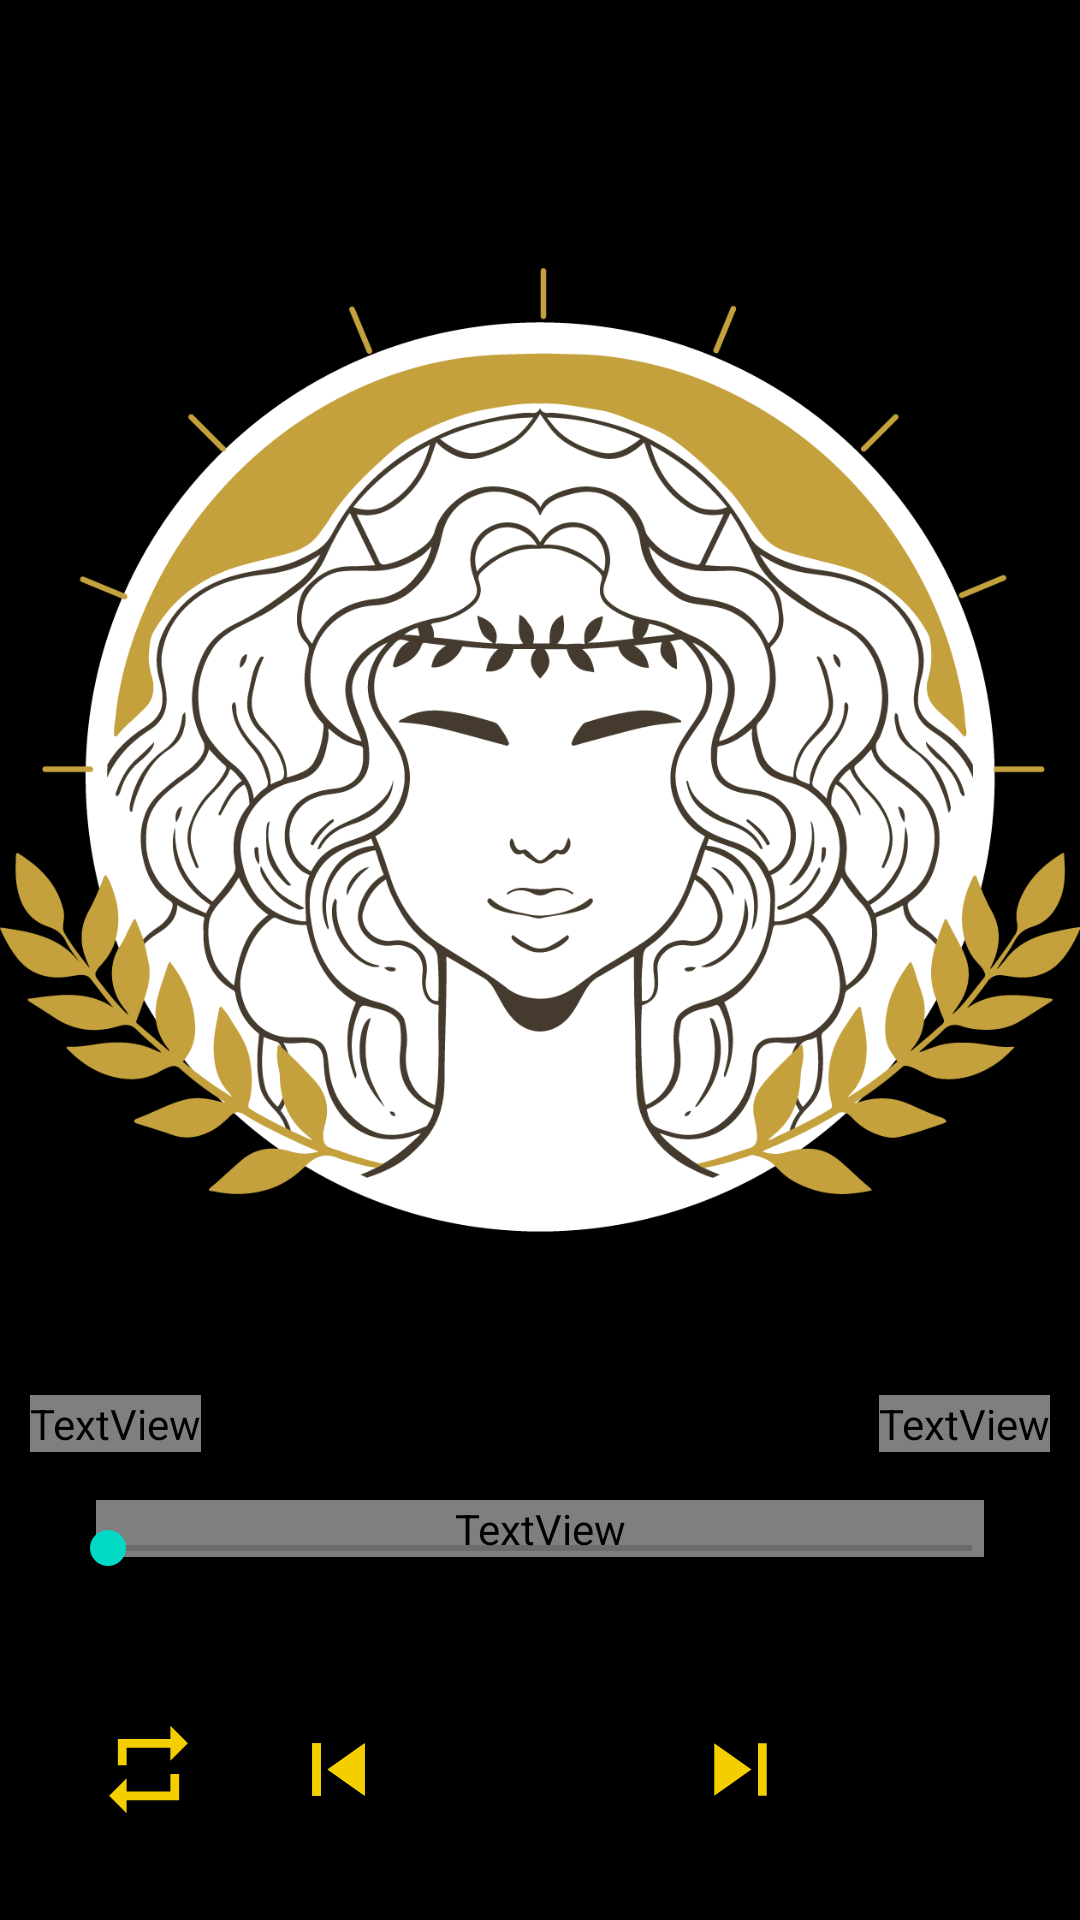

Locate icon controls on the screen. Image size 1080px x 1920px, boxes as (x1=x1, y1=y1, x2=x2, y2=y2).
repeat: (x1=109, y1=1726, x2=188, y2=1813)
skip next: (x1=714, y1=1743, x2=767, y2=1796)
